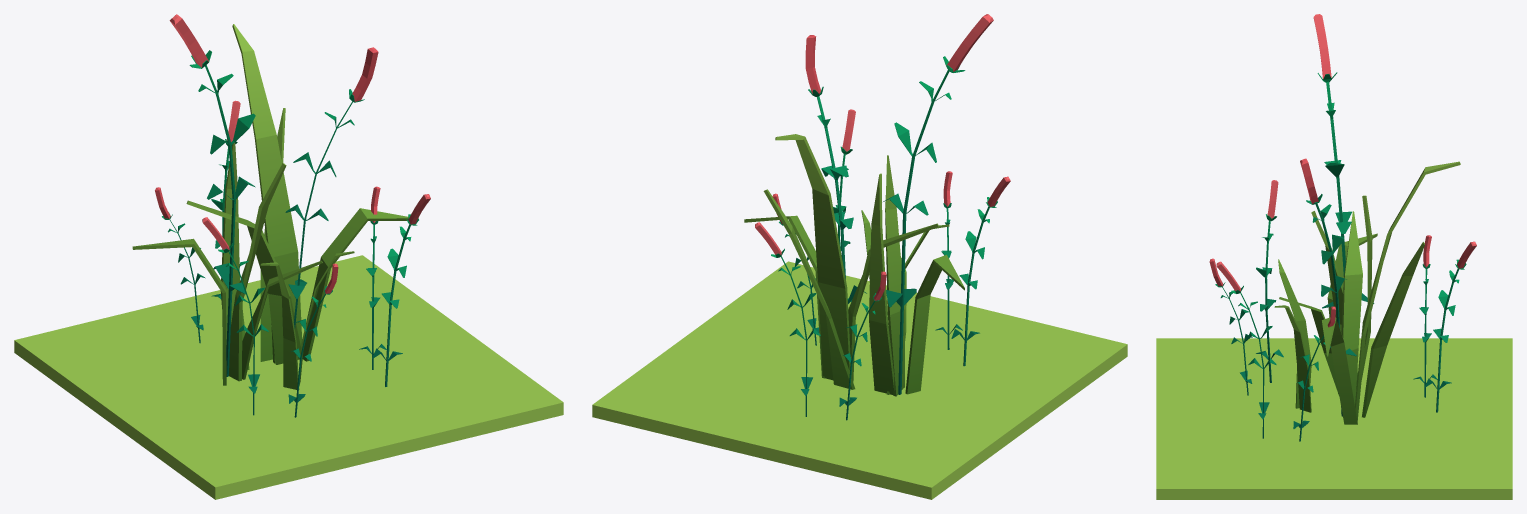
File: flowers.glb
3 renders of one model, left to right at view 1: azimuth 30°, elevation 25°; view 2: azimuth 150°, elevation 25°; view 3: azimuth 270°, elevation 25°, orthographic. The views are drawn at different scales.
Visible parts, largest first — view 1: Flowers; view 2: Flowers; view 3: Flowers.
Boxes of the visible parts, x1=… form: Flowers: x1=14, y1=14, x2=563, y2=499; Flowers: x1=592, y1=14, x2=1127, y2=499; Flowers: x1=1156, y1=14, x2=1512, y2=499.
Size of the model in its own units: 0.29 by 0.3354 by 0.29.
Materials: 1 (1 with a texture image).
